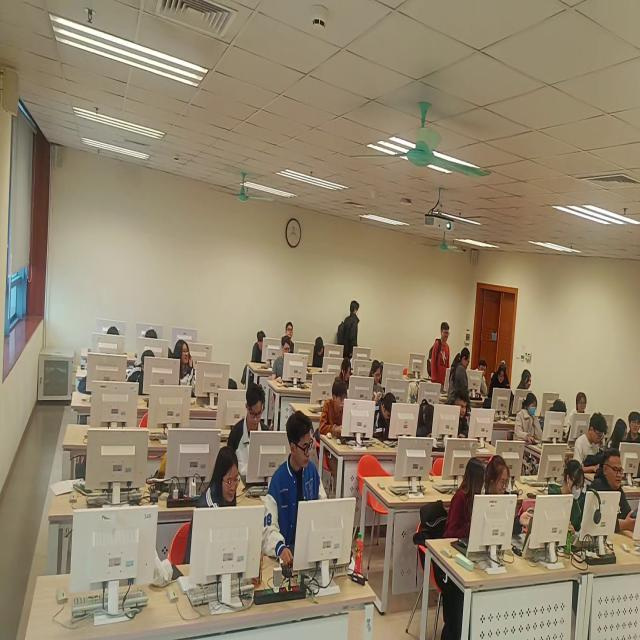raise_head: (594, 446, 638, 536), (177, 334, 196, 391), (569, 393, 590, 434), (284, 320, 297, 356), (630, 407, 640, 445)
sleep: (372, 387, 398, 442), (417, 395, 437, 441), (76, 370, 94, 398)
stand: (427, 320, 452, 389), (449, 345, 473, 407), (339, 297, 362, 359), (512, 366, 533, 415)
using_computer: (261, 411, 332, 573), (186, 443, 245, 566), (547, 458, 589, 540), (232, 384, 272, 462), (574, 409, 606, 468), (127, 343, 158, 390), (514, 395, 541, 445), (273, 335, 294, 386), (487, 364, 510, 408), (609, 414, 629, 452), (369, 357, 384, 402), (252, 328, 270, 364), (338, 353, 353, 389), (546, 400, 569, 422), (477, 360, 489, 400), (313, 337, 328, 368)
